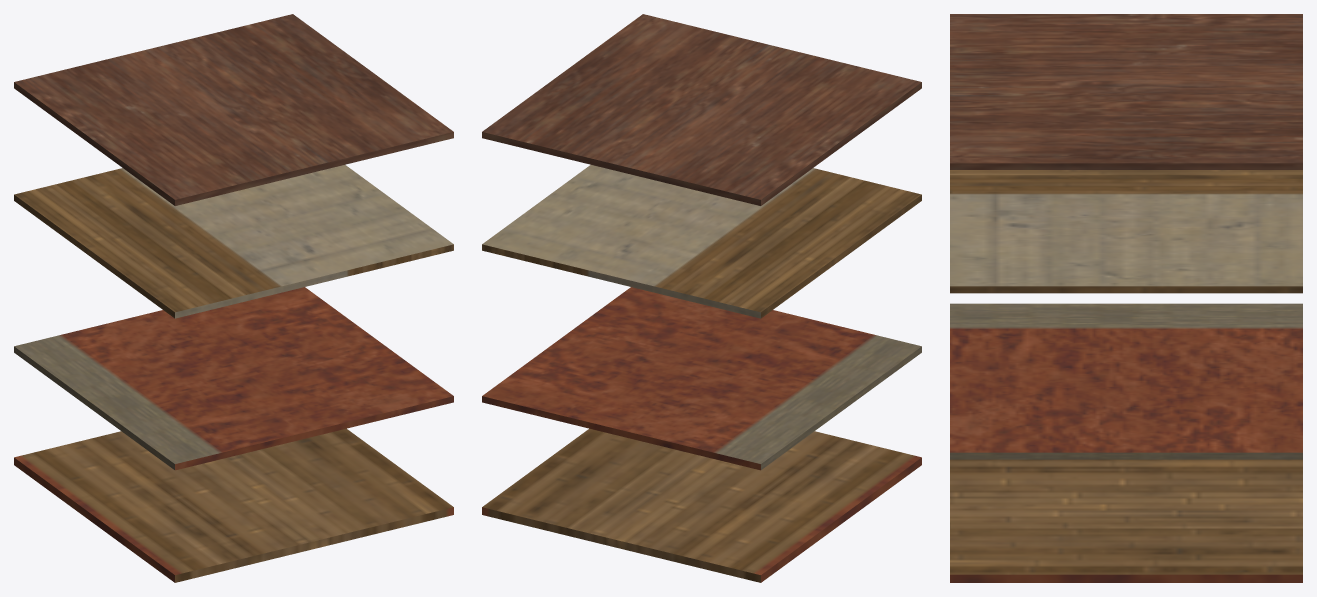
File: woodTiles.fbx
3 views of the same model, side by side, from view 1: azimuth 30°, elevation 25°; view 2: azimuth 150°, elevation 25°; view 3: azimuth 270°, elevation 25° (orthographic). The views are drawn at different scales.
Visible parts, largest first — view 1: Ceiling_15, Ceiling_12, Ceiling_13, Ceiling_14; view 2: Ceiling_15, Ceiling_12, Ceiling_13, Ceiling_14; view 3: Ceiling_12, Ceiling_15, Ceiling_13, Ceiling_14.
Part boxes in pixels (<box>): Ceiling_15: <box>14,14,453,205</box>; Ceiling_12: <box>14,287,453,470</box>; Ceiling_13: <box>14,428,453,582</box>; Ceiling_14: <box>14,165,453,318</box>; Ceiling_15: <box>482,14,921,205</box>; Ceiling_12: <box>482,287,921,470</box>; Ceiling_13: <box>482,428,921,582</box>; Ceiling_14: <box>482,165,921,318</box>; Ceiling_12: <box>950,303,1302,459</box>; Ceiling_15: <box>950,14,1302,169</box>; Ceiling_13: <box>950,459,1302,582</box>; Ceiling_14: <box>950,170,1302,293</box>.
Size of the model in its own units: 300 by 394 by 300.
